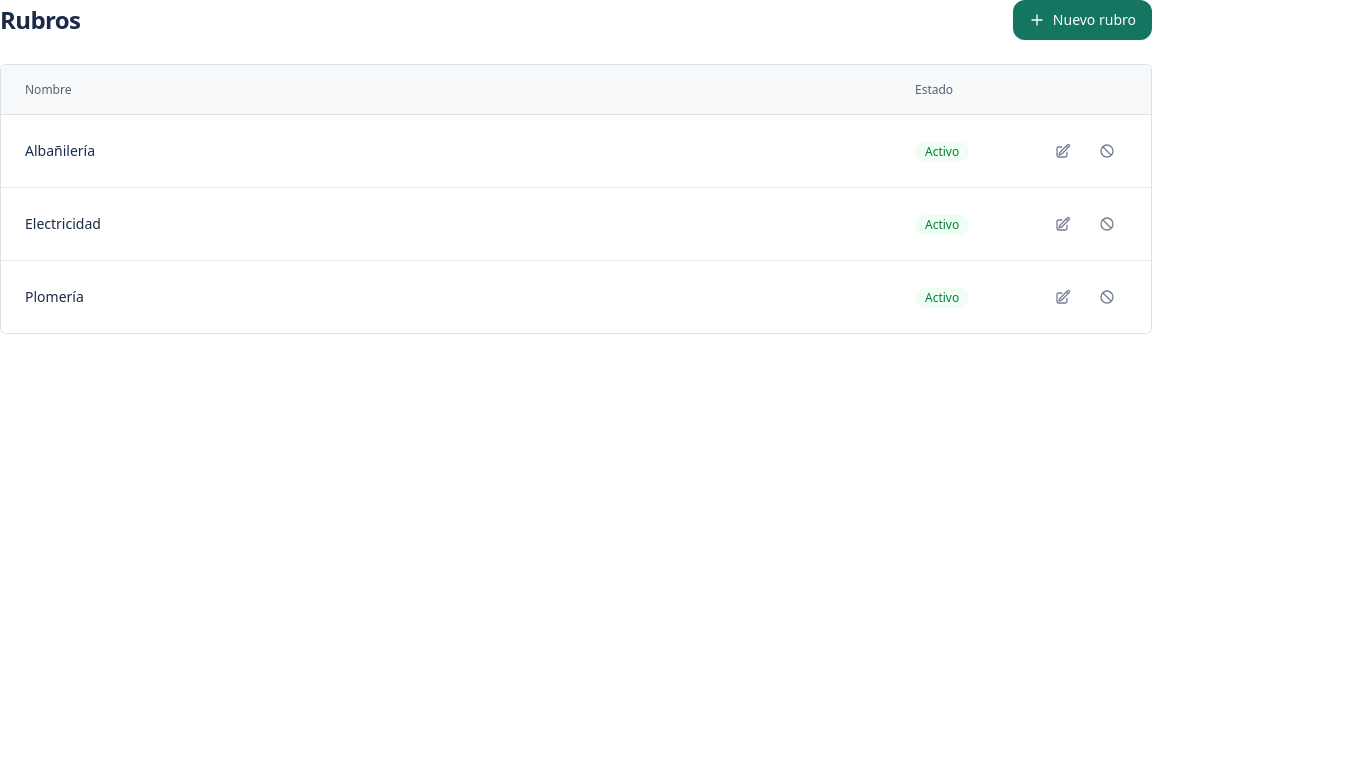
Test: CategoriesPage › opens edit modal when clicking edit button
This screenshot has width=1366, height=768.
Click the button named "Editar rubro Plomería": click(1063, 297) [1043, 277, 1083, 317]
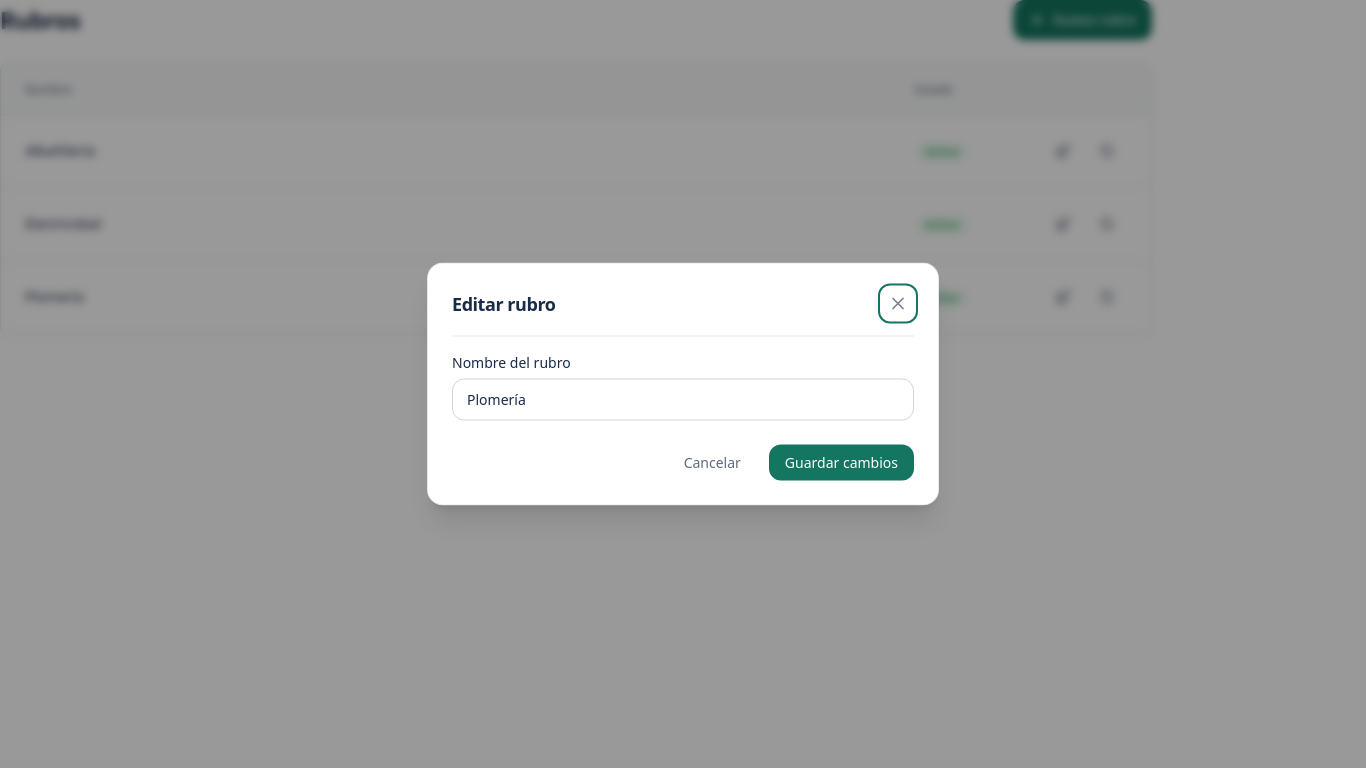
Expected: the dialog is shown, [427, 262, 939, 506]
Expected: the heading "Editar rubro" is shown, [452, 290, 556, 318]
Expected: the field labelled "Nombre del rubro" holds "Plomería", [452, 378, 914, 420]
